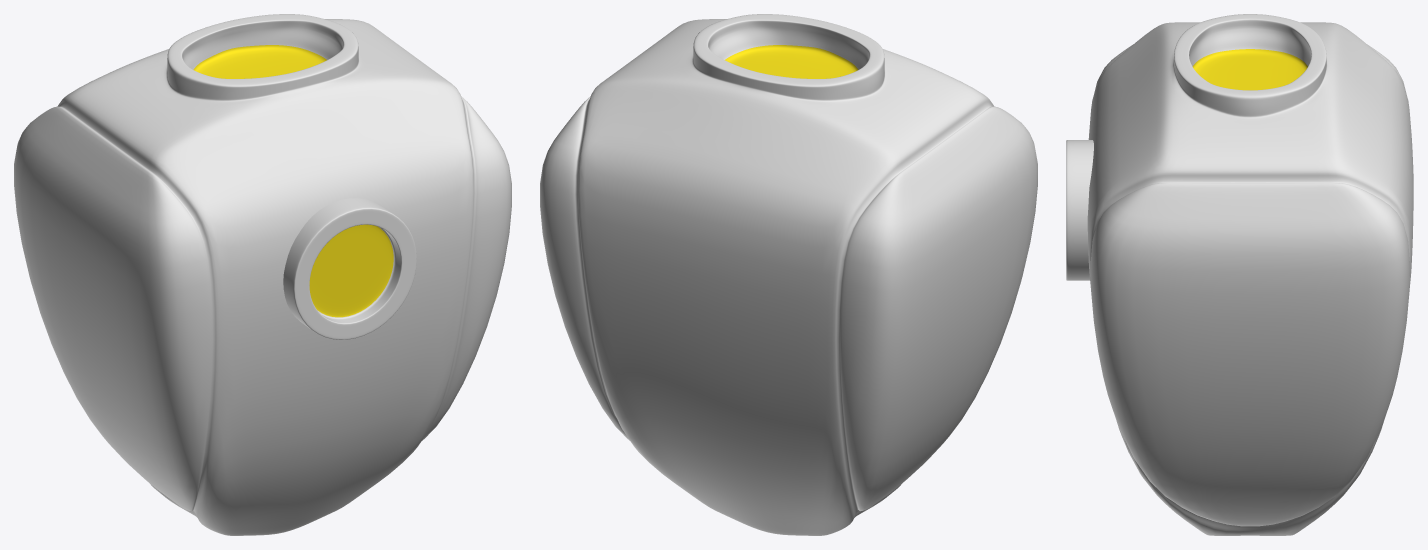
The model's file is BODY.fbx.
3 renders of one model, left to right at view 1: azimuth 30°, elevation 25°; view 2: azimuth 150°, elevation 25°; view 3: azimuth 270°, elevation 25°, orthographic.
Parts seen in each view (by area): view 1: Sphere.008; view 2: Sphere.008; view 3: Sphere.008.
Boxes of the visible parts, box(x1,y1,x2,y2) form: Sphere.008: box(14, 14, 511, 535); Sphere.008: box(540, 14, 1037, 535); Sphere.008: box(1066, 14, 1413, 535).
Size of the model in its own units: 10.37 by 12.5 by 8.48.
